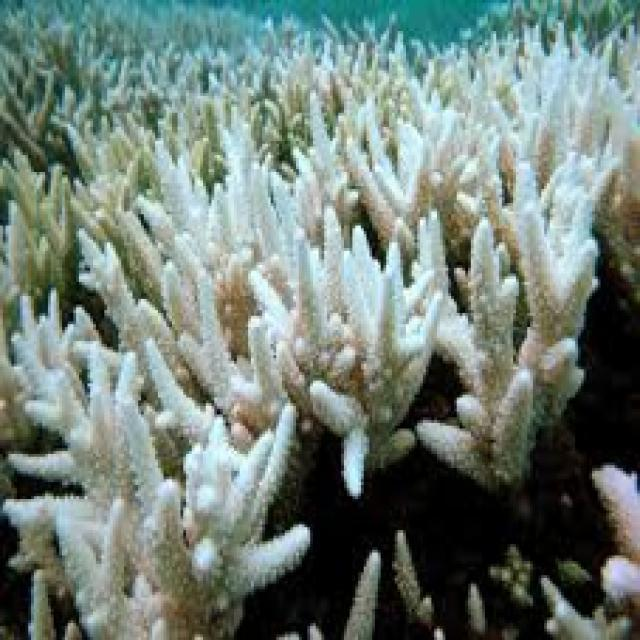Bleached: (33, 360, 263, 640), (152, 137, 400, 355), (385, 49, 640, 245), (286, 236, 440, 454), (464, 160, 591, 418), (418, 383, 545, 481), (18, 306, 170, 380), (80, 245, 153, 332), (246, 520, 313, 586), (593, 467, 640, 556), (339, 431, 371, 499), (600, 560, 640, 610)
